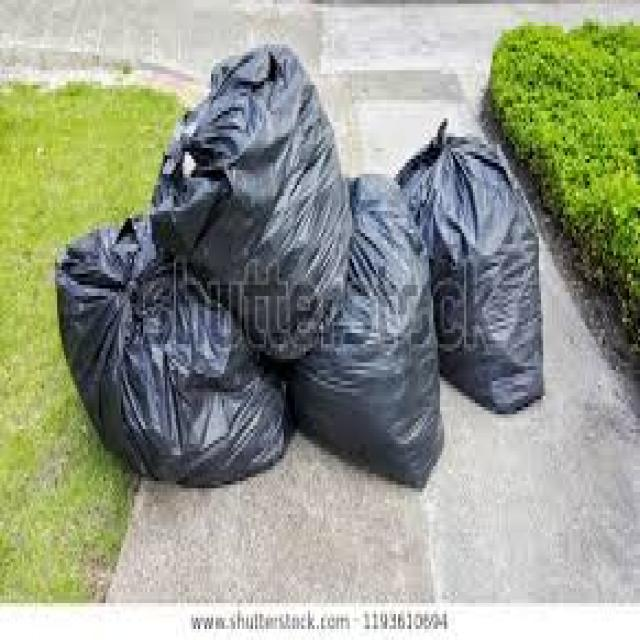plastic_bag: (56, 220, 298, 464), (173, 64, 357, 301), (318, 190, 439, 460), (430, 127, 544, 375)
